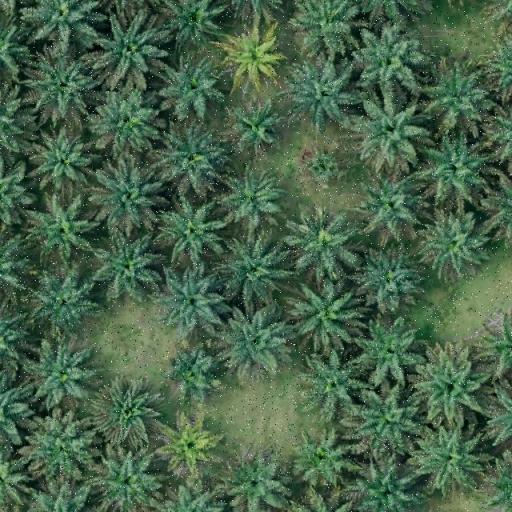Ganoderma: (228, 34, 274, 76), (168, 424, 211, 466)
